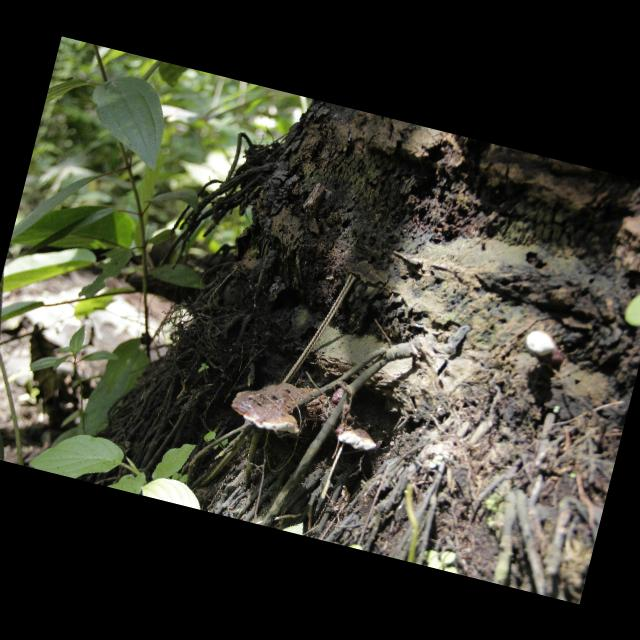ganoderma: (228, 371, 321, 442), (333, 415, 383, 455)
primordium: (523, 329, 559, 362)
